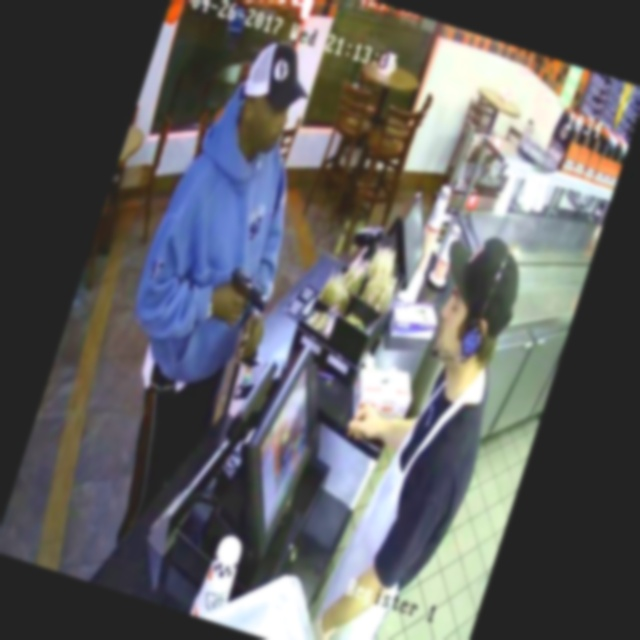gun: (206, 253, 287, 337)
